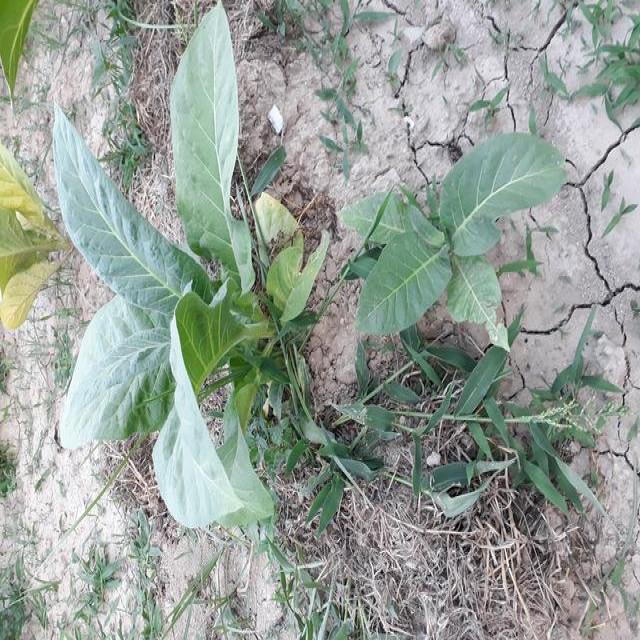crop: (26, 7, 320, 557)
